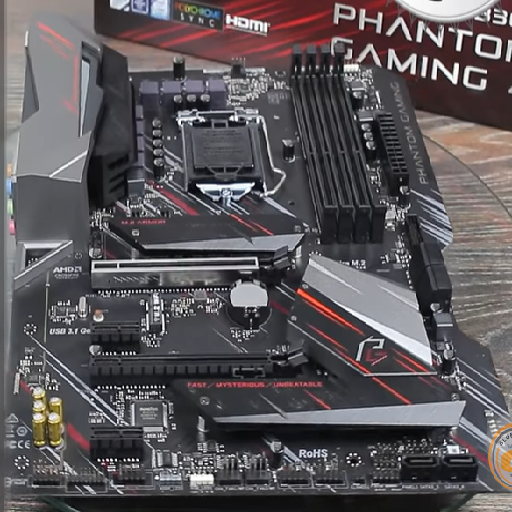CPU: (170, 100, 286, 206)
GPU: (77, 338, 314, 388), (88, 244, 296, 289)
MOTHERBOARD: (12, 20, 511, 501)
RAM: (286, 39, 393, 242)
SSD: (133, 291, 172, 340)
